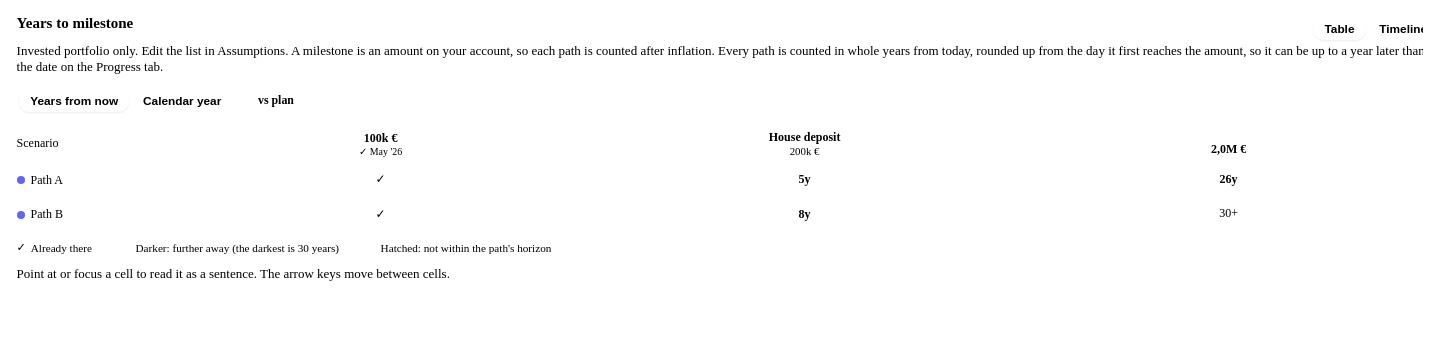
the timeline › has a row per path with its name, and the axis in years and in calendar years
Click the radio button labelled "Timeline".
click(1400, 29)  # box [1368,17,1431,40]
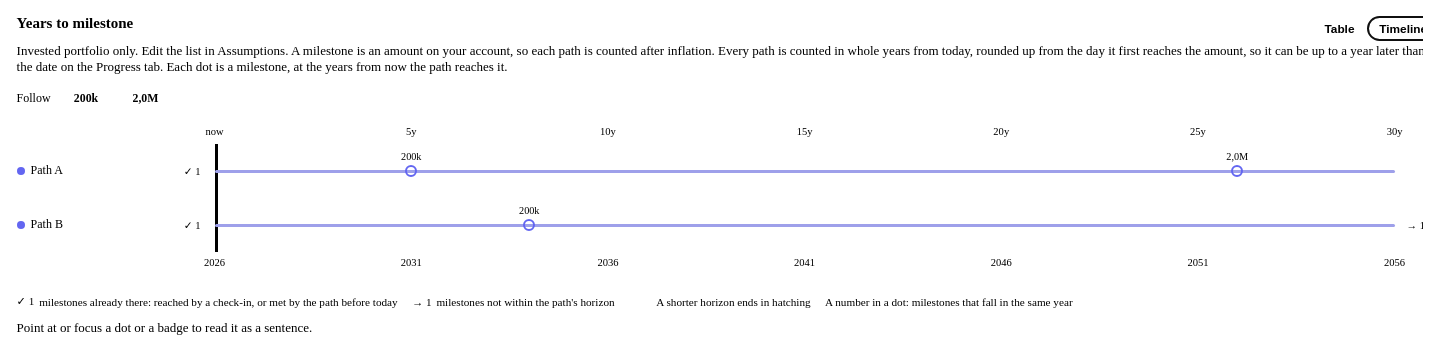
Expected: the text "now" is shown, [206,125,224,138]
Expected: the text "30y" is shown, [1387,125,1402,138]
Expected: the text "2026" is shown, [204,256,225,269]
